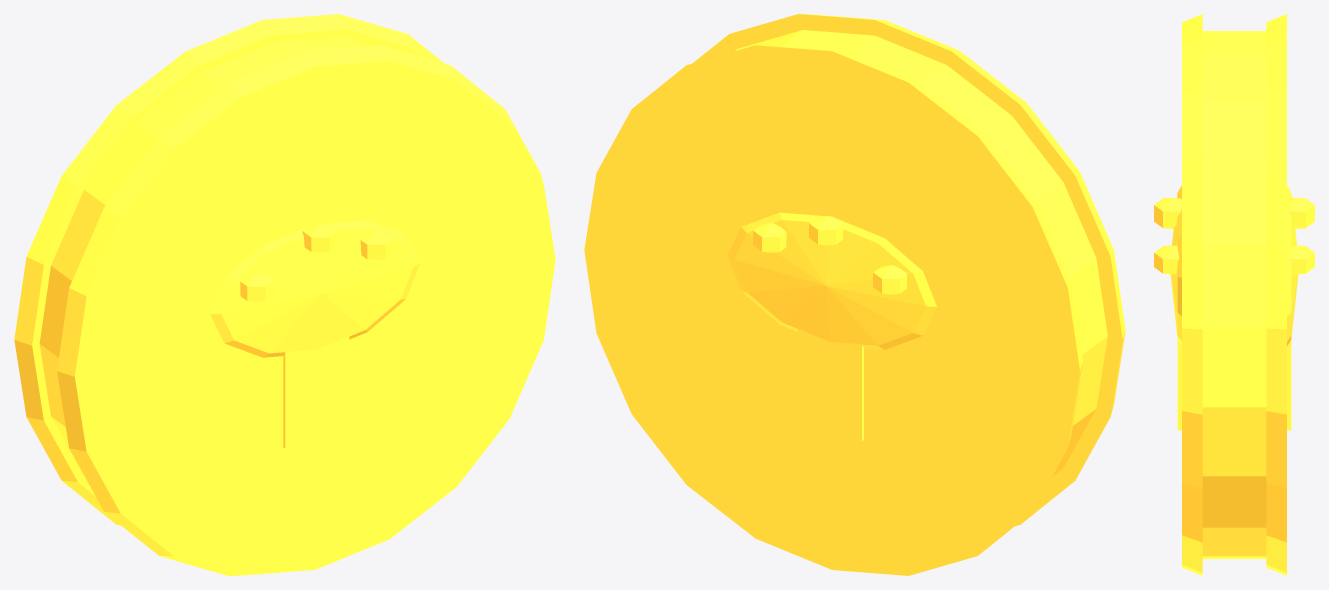
File: coin.glb
The picture shows the model from 3 angles, left to right: view 1: azimuth 30°, elevation 25°; view 2: azimuth 150°, elevation 25°; view 3: azimuth 270°, elevation 25°; orthographic projection.
Parts seen in each view (by area): view 1: RC_Coin; view 2: RC_Coin; view 3: RC_Coin.
Boxes of the visible parts, <box> form: RC_Coin: <box>14,14,555,575</box>; RC_Coin: <box>584,14,1125,575</box>; RC_Coin: <box>1154,14,1314,575</box>.
Size of the model in its own units: 1.24 by 1.24 by 0.3519.
